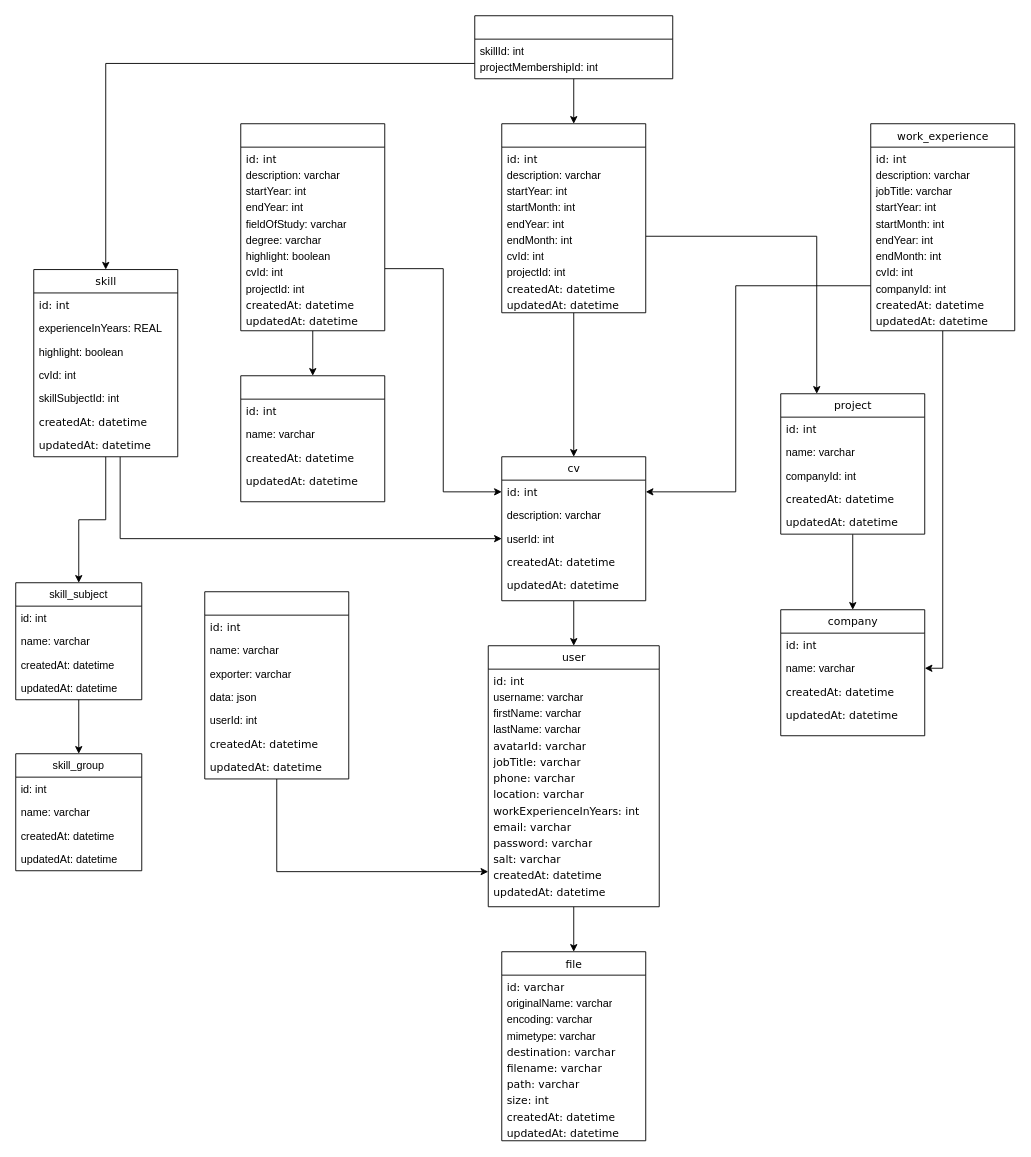
The diagram is 1031 pixels wide and 1157 high, and some of its shapes have lost their labels. Each missing label, with the box of its shape:
education: (240, 123, 385, 331)
project_membership: (501, 123, 646, 313)
project_membership_skills_skill: (474, 15, 673, 79)
school: (240, 375, 385, 502)
template: (204, 591, 349, 779)
